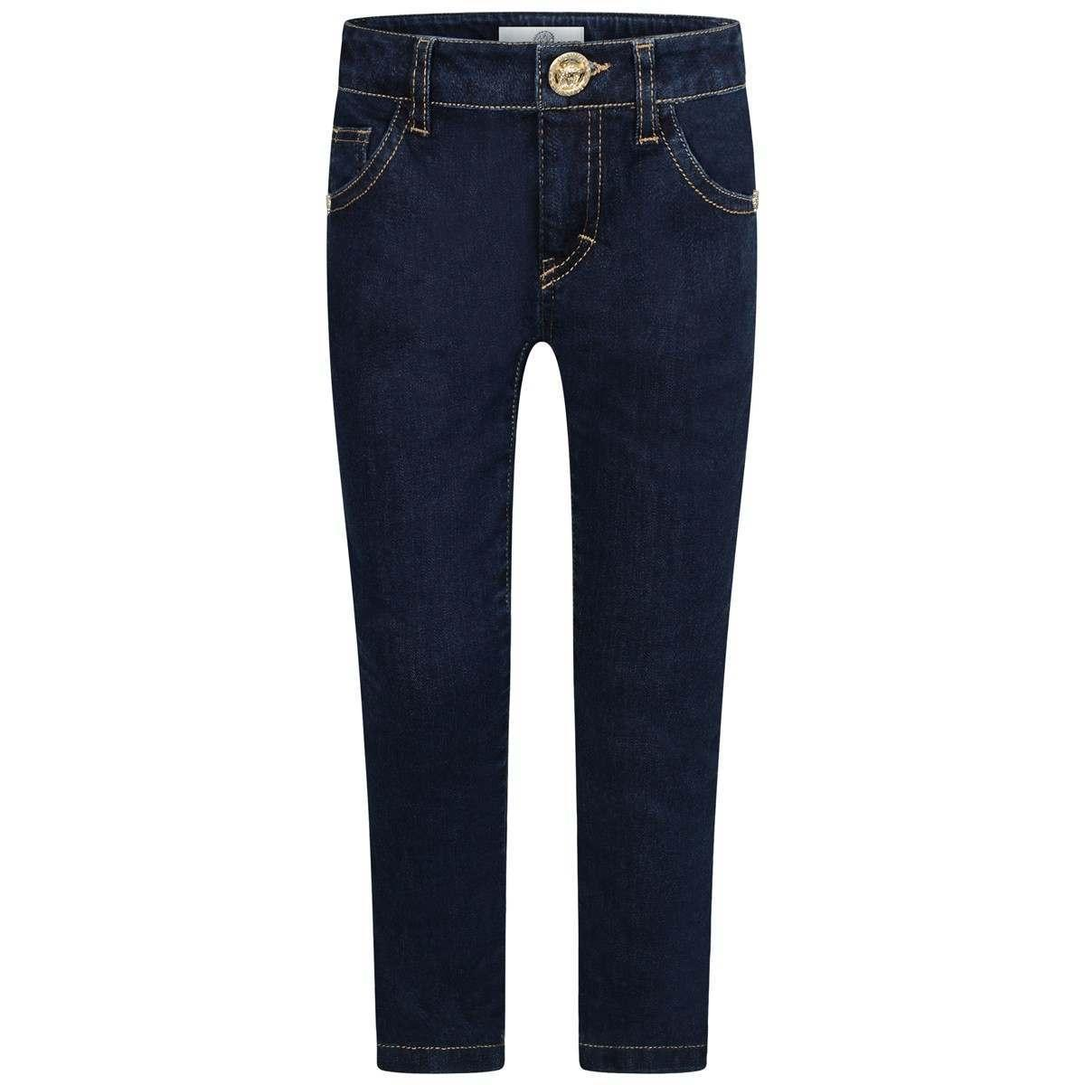Jeans: (317, 0, 767, 1085)
